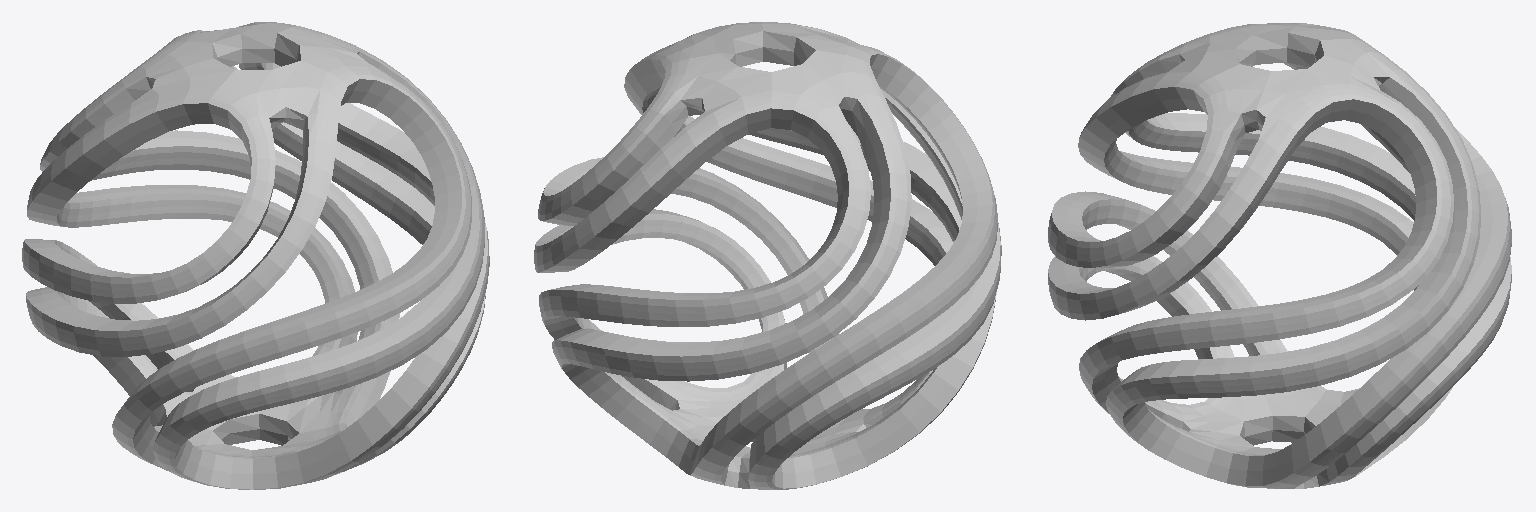
Rendered from orb.obj.
3 views of the same model, side by side, from view 1: azimuth 30°, elevation 25°; view 2: azimuth 150°, elevation 25°; view 3: azimuth 270°, elevation 25° (orthographic).
Visible parts, largest first — view 1: Cube_Cube.003; view 2: Cube_Cube.003; view 3: Cube_Cube.003.
Part boxes in pixels (left/top/right/bottom): Cube_Cube.003: left=22, top=22, right=489, bottom=489; Cube_Cube.003: left=534, top=22, right=1001, bottom=489; Cube_Cube.003: left=1048, top=23, right=1511, bottom=488.
Bounding box in the file's own units: 3.55 × 3.44 × 3.55.